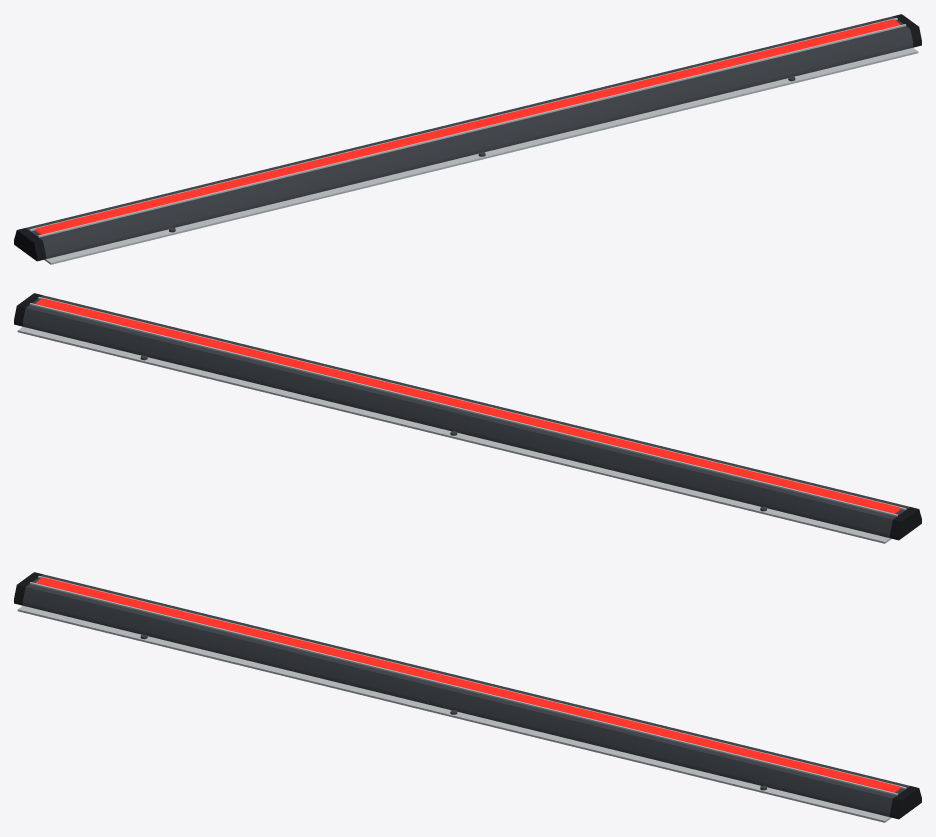
The model's file is ligne_led_sol.glb.
3 renders of one model, top to bottom at view 1: azimuth 30°, elevation 25°; view 2: azimuth 150°, elevation 25°; view 3: azimuth 330°, elevation 25°, orthographic.
Parts seen in each view (by area): view 1: module; view 2: module; view 3: module.
Part boxes in pixels (x1,y1,x2,y2): module: [14, 14, 921, 264]; module: [14, 293, 921, 543]; module: [14, 572, 921, 822].
Bounding box in the file's own units: 2 × 0.045 × 0.13.
